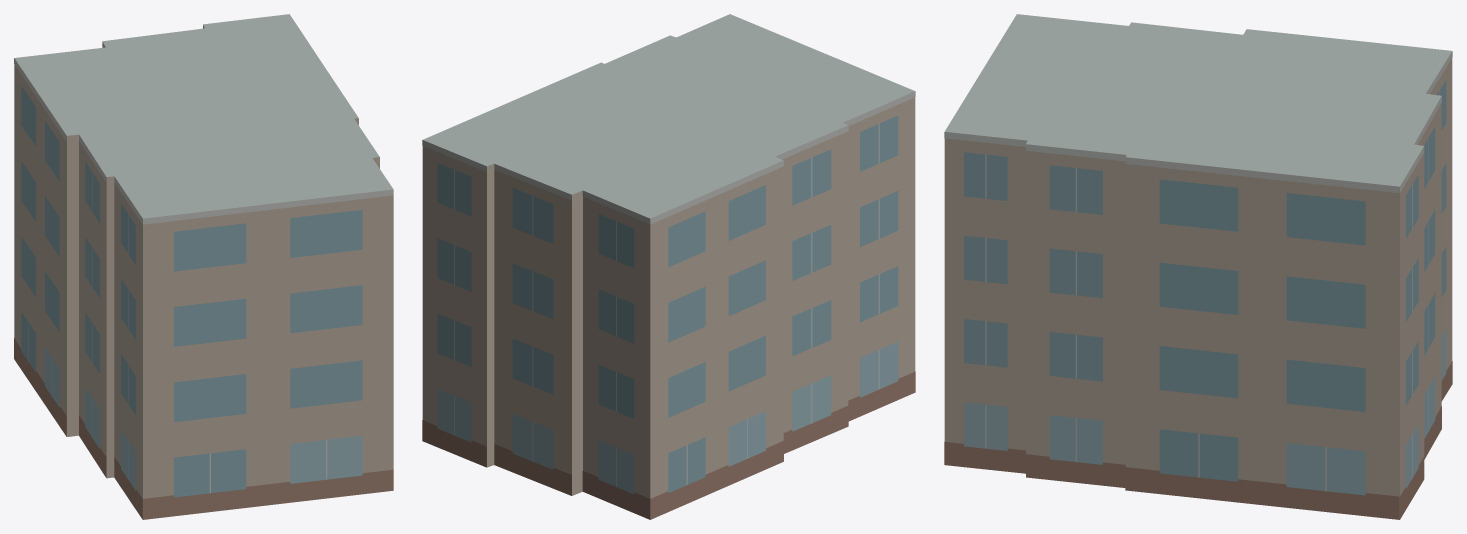
The model's file is survey-upis-32585629.glb.
The picture shows the model from 3 angles, left to right: view 1: azimuth 30°, elevation 25°; view 2: azimuth 150°, elevation 25°; view 3: azimuth 270°, elevation 25°; orthographic projection. The views are drawn at different scales.
Parts seen in each view (by area): view 1: survey-upis-32585629.tmp; view 2: survey-upis-32585629.tmp; view 3: survey-upis-32585629.tmp.
Part boxes in pixels (box(x1,y1,x2,y2)): survey-upis-32585629.tmp: box(14, 14, 393, 519); survey-upis-32585629.tmp: box(422, 14, 915, 519); survey-upis-32585629.tmp: box(944, 14, 1452, 519).
Size of the model in its own units: 13.79 by 12.4 by 17.14.
